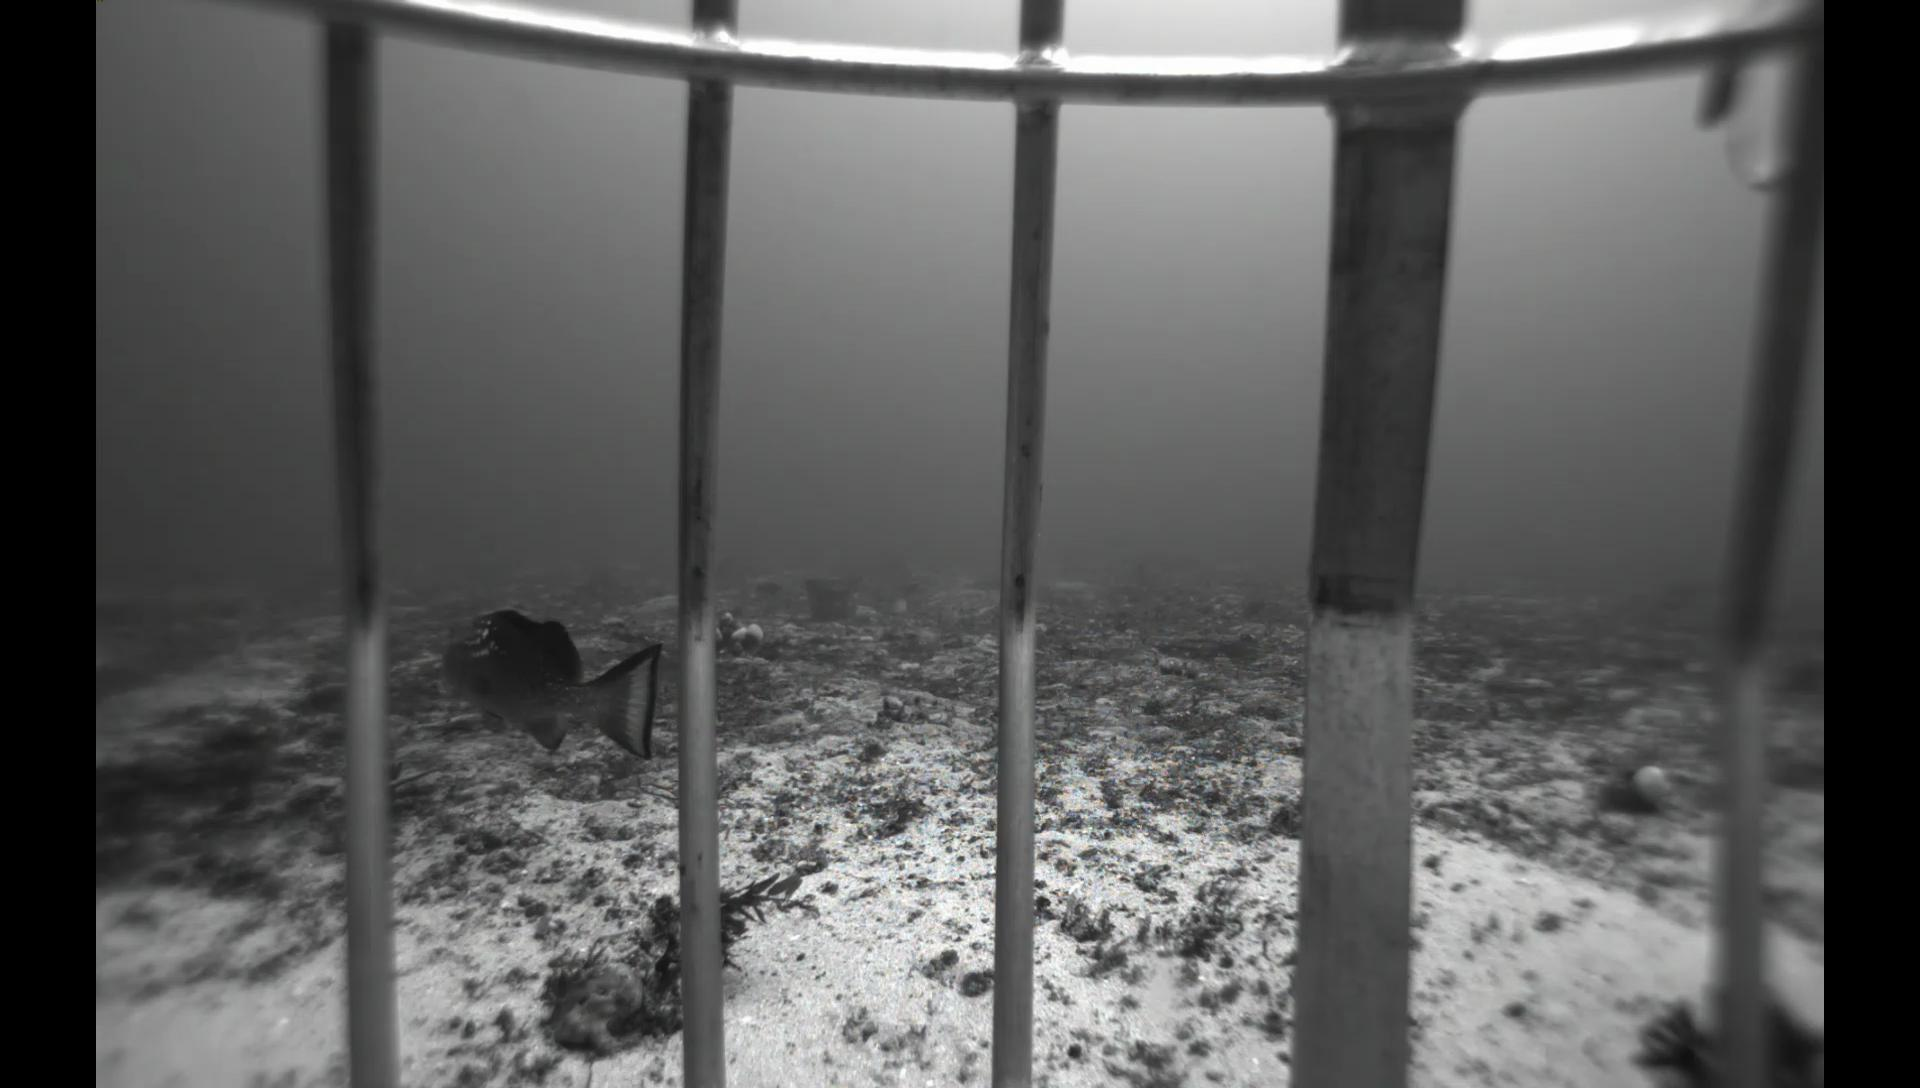CHAETODONOCELLATUS-170260307: (1068, 580, 1106, 612), (881, 593, 914, 617)
EPINEPHELUSMORIO-170021211: (427, 597, 676, 778)
PRISTIGENYSALTA-170050401: (295, 677, 345, 719)
